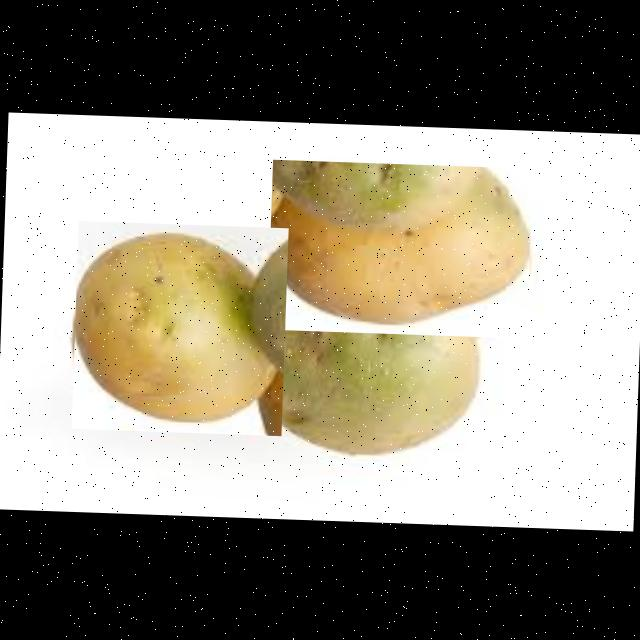Defected potato: (236, 258, 493, 457), (266, 158, 532, 337), (70, 220, 287, 434)
